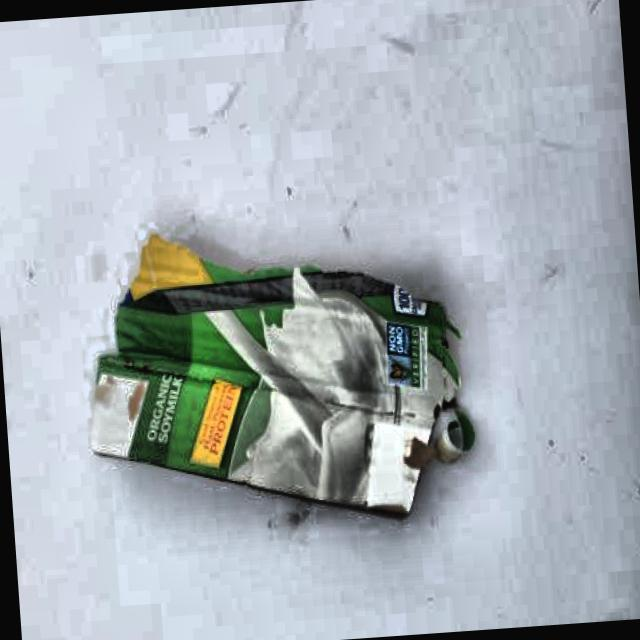cardboard: (74, 209, 476, 540)
